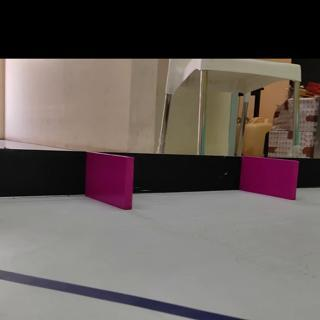xparking: (90, 157, 133, 209), (245, 159, 297, 198)
